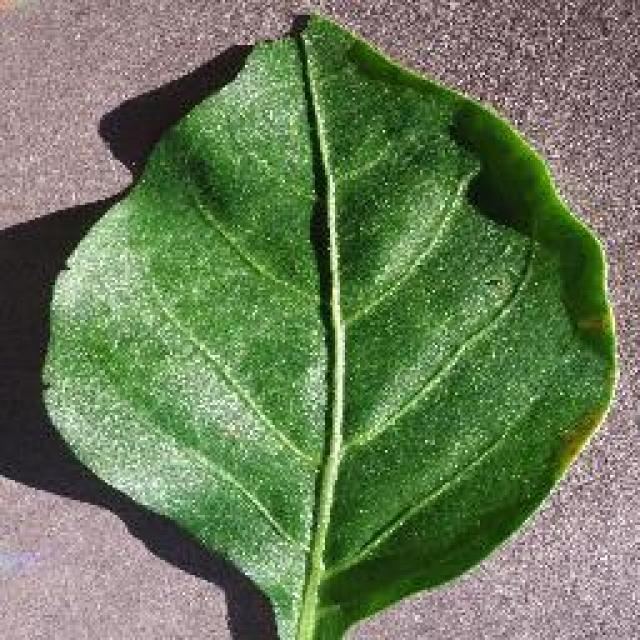Leaf: (52, 8, 625, 636)
